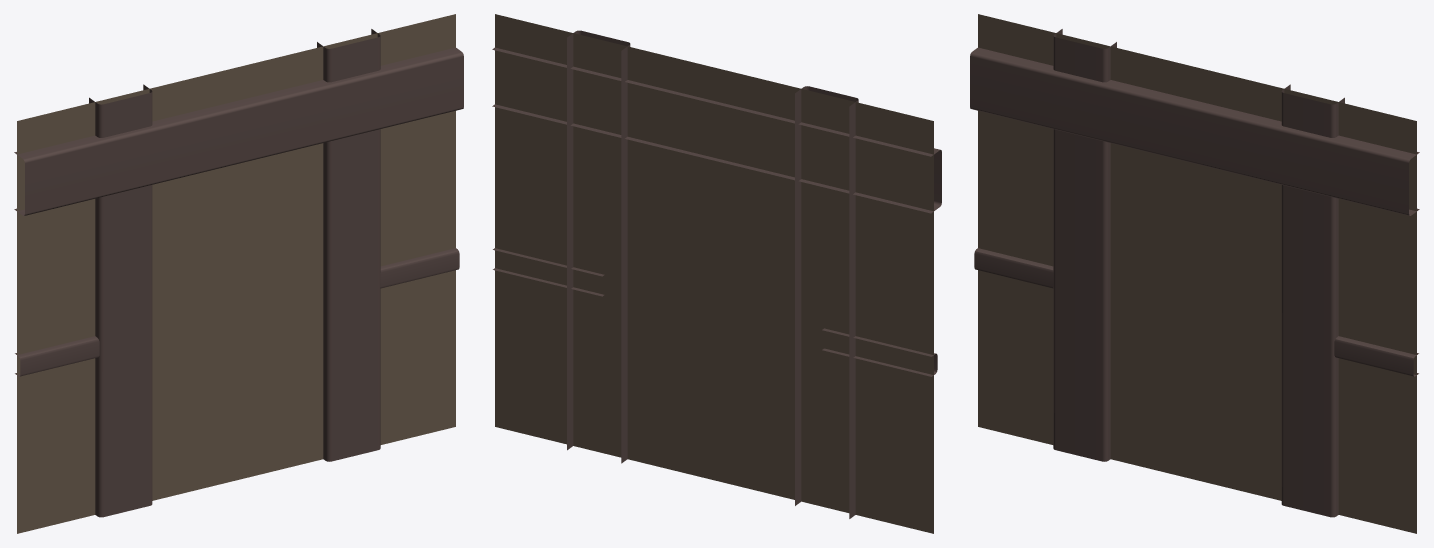
File: ParedMadera_2.fbx
3 renders of one model, left to right at view 1: azimuth 30°, elevation 25°; view 2: azimuth 150°, elevation 25°; view 3: azimuth 330°, elevation 25°, orthographic.
Visible parts, largest first — view 1: pCube67; view 2: pCube67; view 3: pCube67.
Part boxes in pixels (x1,y1,x2,y2): pCube67: (14,14,463,533); pCube67: (492,14,941,533); pCube67: (970,14,1419,533).
Size of the model in its own units: 5.6 by 5.03 by 0.3168.
